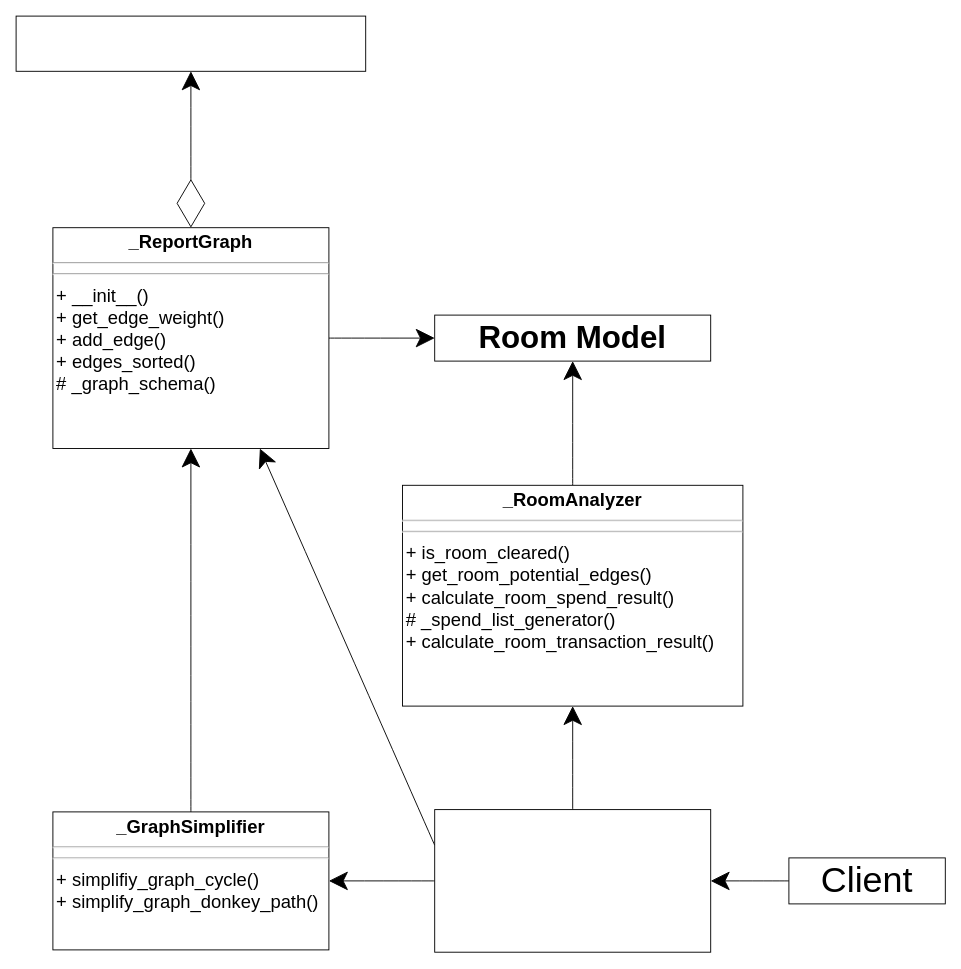
Image size: 961x969. Some labels were removed from this diagram. Here are the shapes that lost their labels. From the top down, the centre of each, then its label:
point 190,43: networkx.DiGraph
point 572,880: ReportFacade + is_room_cleared() + get_graph()
